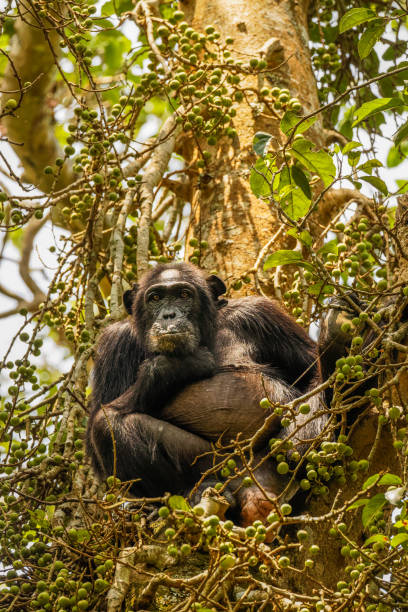chimpanzee: (93, 243, 236, 379)
